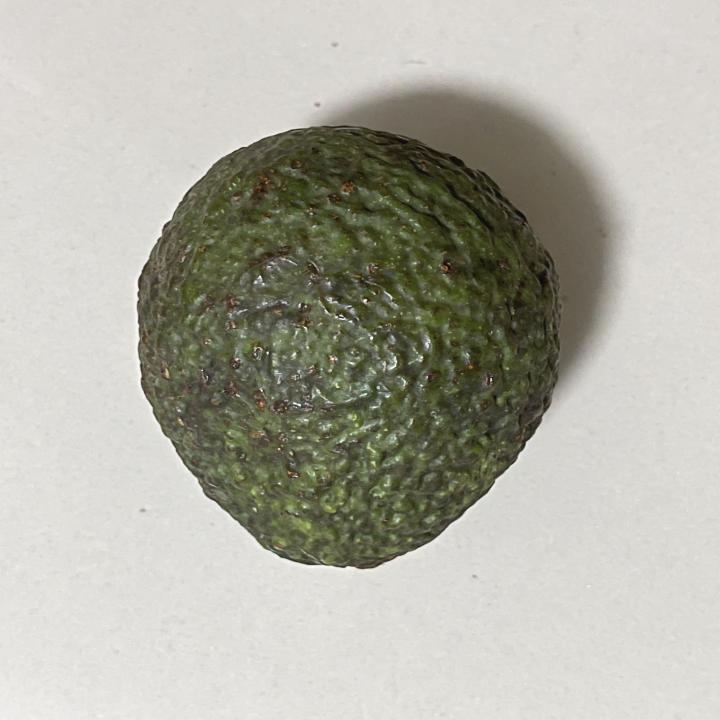Level1: (115, 114, 577, 582)
